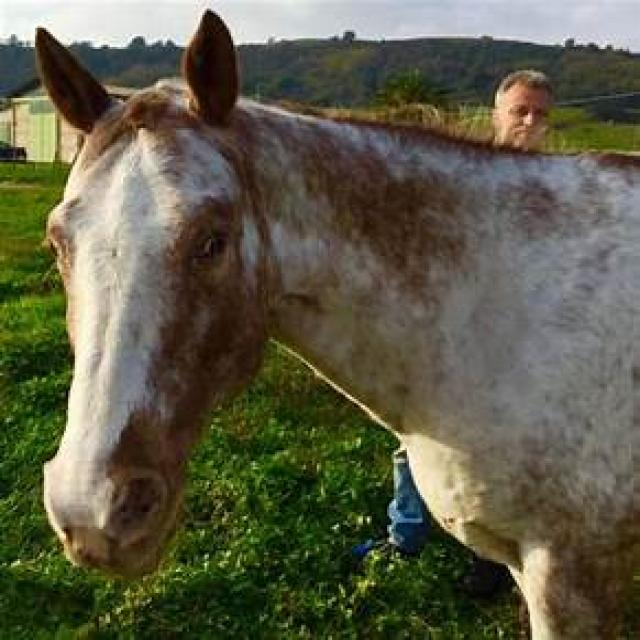horse: (33, 11, 640, 640)
